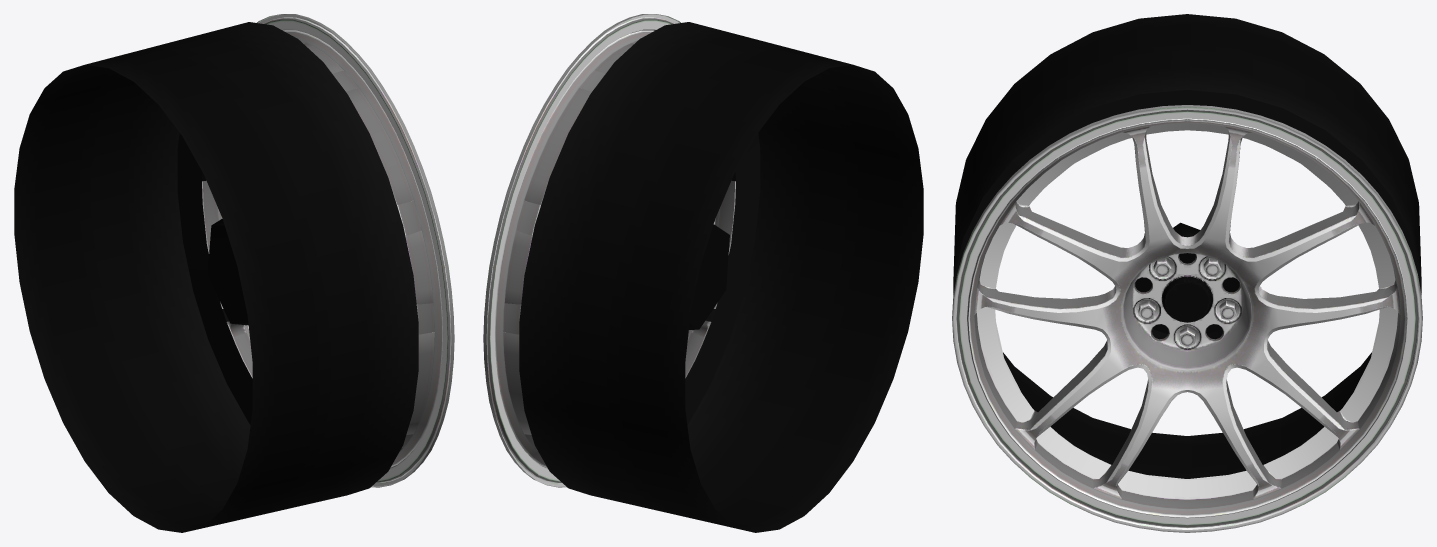
File: wheel71.fbx
The picture shows the model from 3 angles, left to right: view 1: azimuth 30°, elevation 25°; view 2: azimuth 150°, elevation 25°; view 3: azimuth 270°, elevation 25°; orthographic projection. The views are drawn at different scales.
Parts seen in each view (by area): view 1: wor_crkai_wheel_wheel_inner_rim_, wor_crkai_wheel_wheel_rim_, wheel_rim; view 2: wor_crkai_wheel_wheel_inner_rim_, wor_crkai_wheel_wheel_rim_, wheel_rim; view 3: wor_crkai_wheel_wheel_inner_rim_, wheel_rim, wor_crkai_wheel_wheel_rim_, wor_crkai_wheel_wheel_chrome_rim_.
Part boxes in pixels (box(x1,y1,x2,y2)): wor_crkai_wheel_wheel_inner_rim_: box(14, 22, 418, 532); wor_crkai_wheel_wheel_rim_: box(221, 14, 452, 487); wheel_rim: box(202, 14, 454, 484); wor_crkai_wheel_wheel_inner_rim_: box(519, 22, 923, 532); wor_crkai_wheel_wheel_rim_: box(485, 14, 716, 487); wheel_rim: box(483, 14, 735, 484); wor_crkai_wheel_wheel_inner_rim_: box(953, 14, 1421, 478); wheel_rim: box(952, 105, 1422, 532); wor_crkai_wheel_wheel_rim_: box(965, 105, 1422, 498); wor_crkai_wheel_wheel_chrome_rim_: box(1138, 258, 1236, 347).
Size of the model in its own units: 0.229 by 0.4803 by 0.4802.
1 material, 1 textured.
